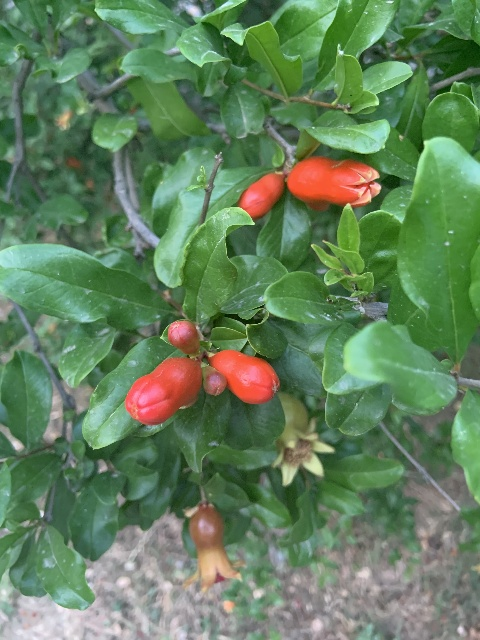bud: (125, 355, 201, 427), (208, 349, 279, 406), (237, 172, 285, 221), (167, 320, 200, 356), (202, 363, 226, 396)
early-fruit: (183, 504, 241, 593)
flower: (288, 156, 381, 209)
mid-growth: (271, 392, 334, 486)
